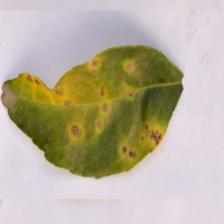canker: (26, 61, 152, 161)
